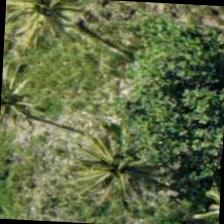Kelapa_Sawit: (68, 124, 162, 218), (3, 0, 93, 55), (0, 49, 53, 142)
